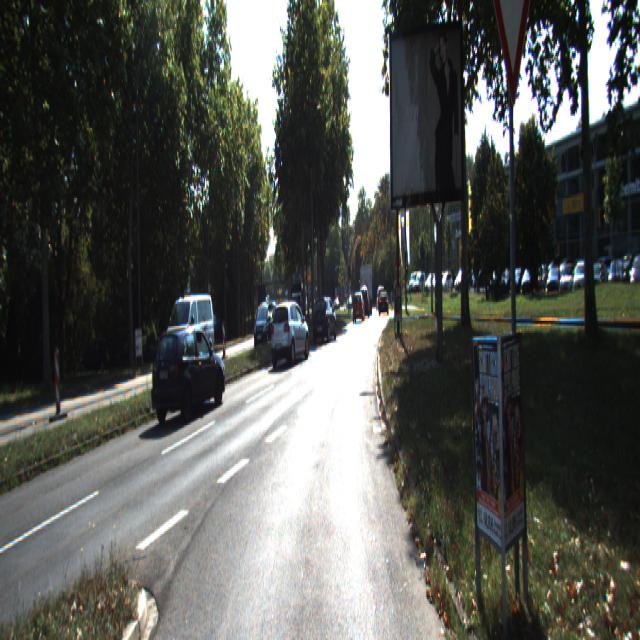Car: (150, 322, 228, 427), (164, 293, 216, 379), (270, 299, 310, 368), (314, 295, 338, 343), (254, 303, 273, 349), (354, 291, 366, 322)
